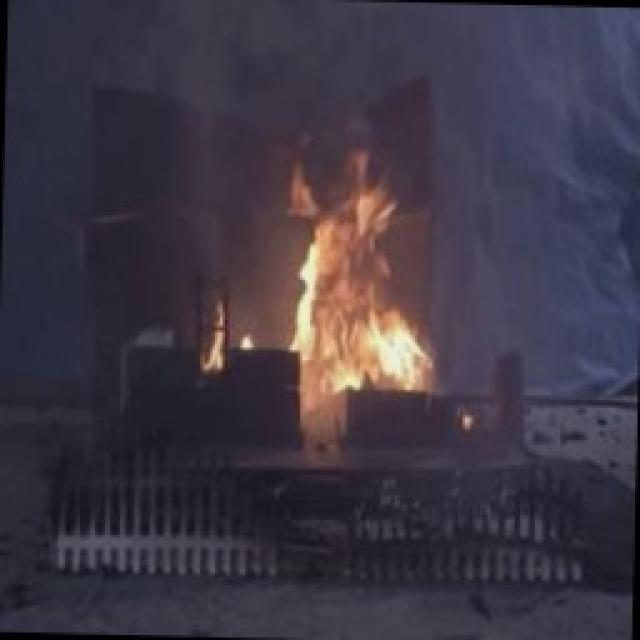fire: (265, 148, 430, 414)
